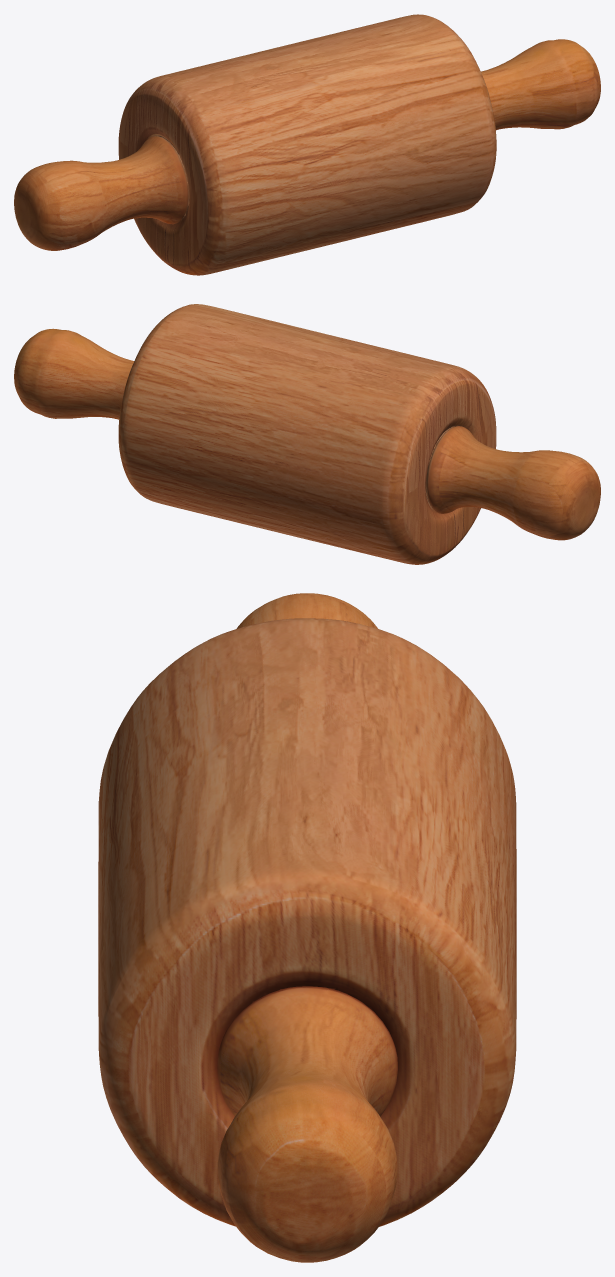
The model's file is rollingpin_v2.glb.
The picture shows the model from 3 angles, top to bottom: view 1: azimuth 30°, elevation 25°; view 2: azimuth 150°, elevation 25°; view 3: azimuth 270°, elevation 25°; orthographic projection. The views are drawn at different scales.
Parts seen in each view (by area): view 1: tripo_node_566e81ad-3962-420a-9f17-2607335d3790; view 2: tripo_node_566e81ad-3962-420a-9f17-2607335d3790; view 3: tripo_node_566e81ad-3962-420a-9f17-2607335d3790.
Boxes of the visible parts, x1,y1,x2,y2 form: tripo_node_566e81ad-3962-420a-9f17-2607335d3790: [14, 14, 600, 275]; tripo_node_566e81ad-3962-420a-9f17-2607335d3790: [14, 304, 600, 564]; tripo_node_566e81ad-3962-420a-9f17-2607335d3790: [98, 593, 516, 1262].
Size of the model in its own units: 0.9788 by 0.3049 by 0.3145.
1 material, 1 textured.
